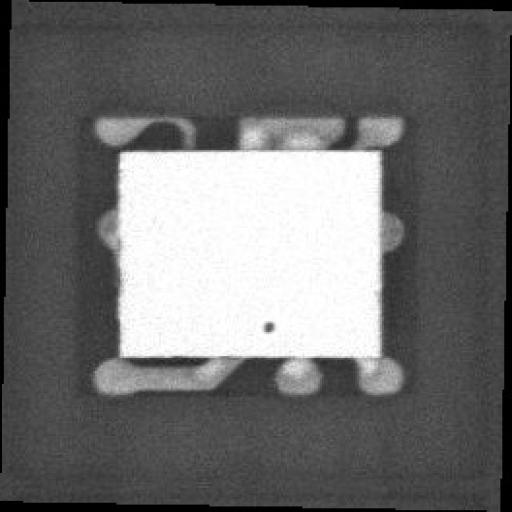DIE_INK: (245, 328, 263, 349)
